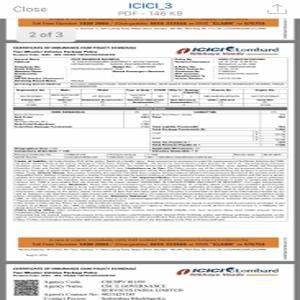image: (175, 44, 281, 57)
table: (14, 107, 287, 159), (11, 86, 287, 110)
text: (12, 160, 284, 220)
